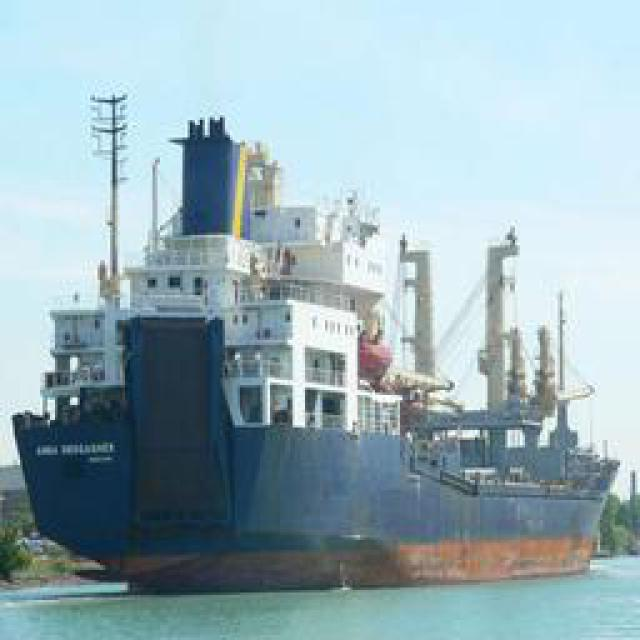Ship: (19, 100, 624, 595)
